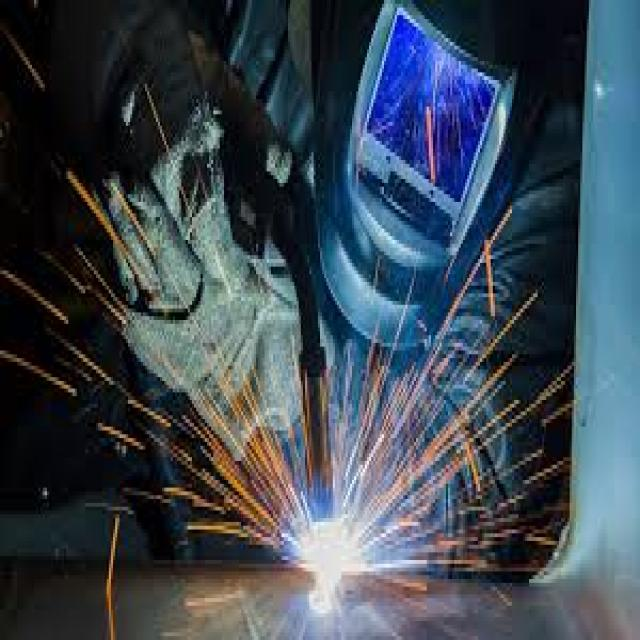welding: (304, 520, 361, 574)
